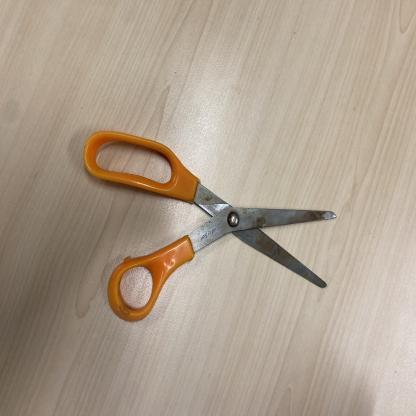scissors: (82, 131, 338, 322)
